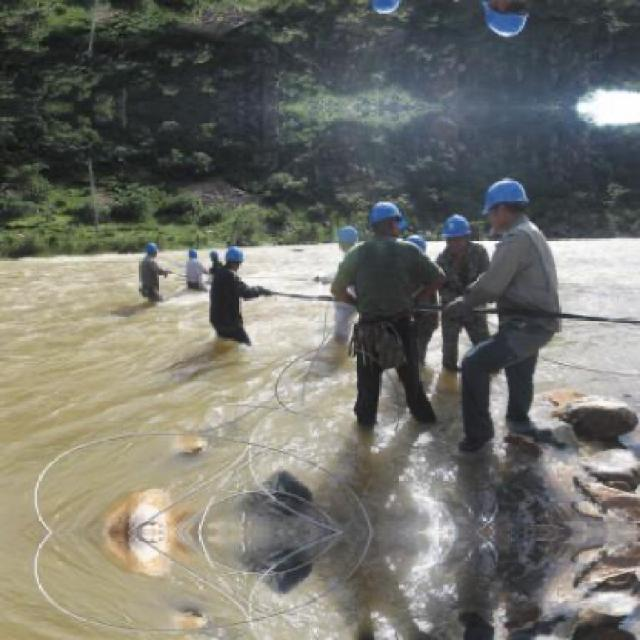helmet: (481, 172, 534, 232), (480, 0, 534, 42), (368, 197, 404, 234), (440, 212, 472, 250), (335, 221, 363, 254), (366, 0, 405, 17), (223, 244, 246, 270), (145, 238, 163, 257), (188, 243, 200, 262)
